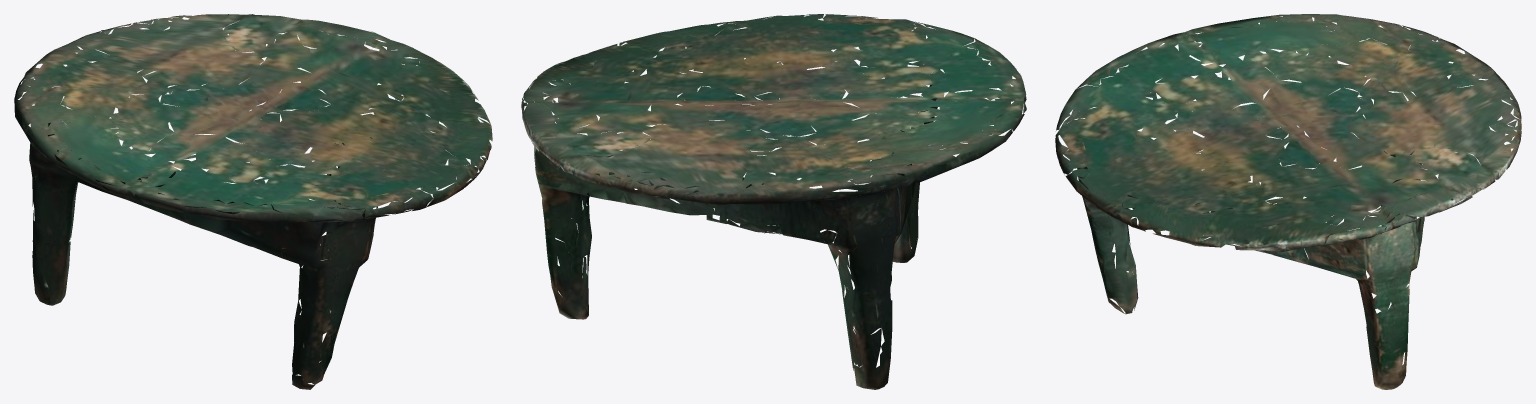
The model's file is low-table.glb.
The picture shows the model from 3 angles, left to right: view 1: azimuth 30°, elevation 25°; view 2: azimuth 150°, elevation 25°; view 3: azimuth 270°, elevation 25°; orthographic projection. The views are drawn at different scales.
Visible parts, largest first — view 1: Object_4, Object_5; view 2: Object_4, Object_5; view 3: Object_4, Object_5.
Part boxes in pixels (left/top/right/bottom): Object_4: left=14, top=14, right=492, bottom=384; Object_5: left=21, top=14, right=489, bottom=389; Object_4: left=521, top=14, right=1026, bottom=389; Object_5: left=522, top=14, right=1026, bottom=389; Object_4: left=1055, top=14, right=1521, bottom=389; Object_5: left=1055, top=15, right=1521, bottom=384.
Size of the model in its own units: 1.05 by 0.5333 by 1.04.
1 material, 1 textured.
